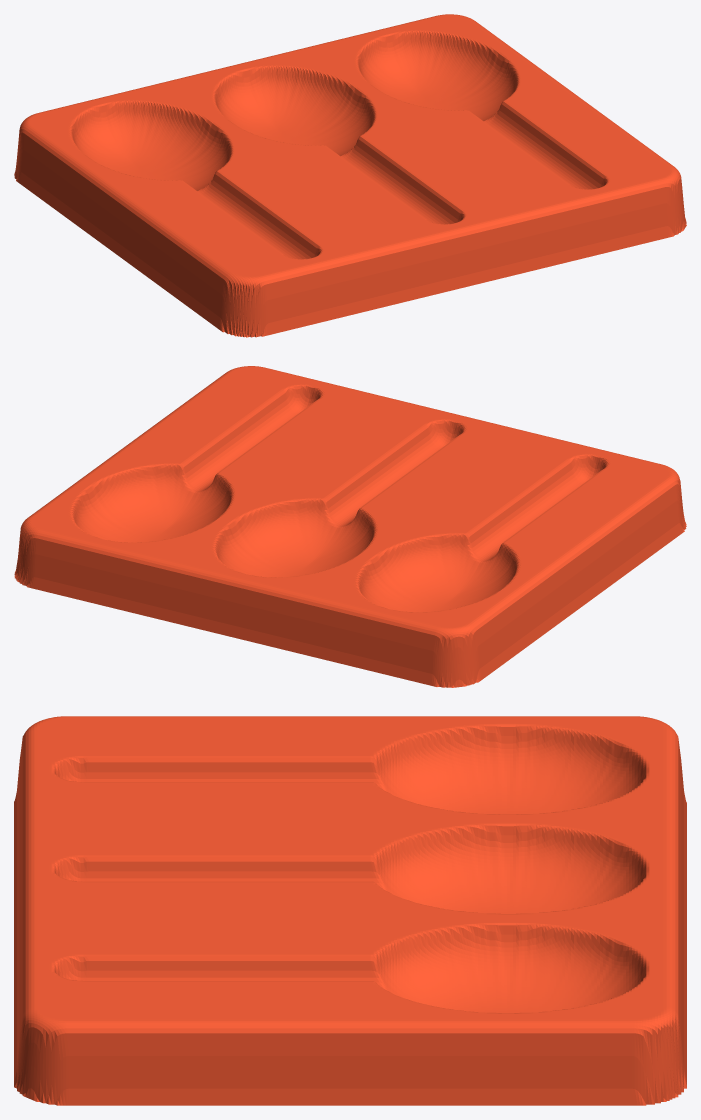
The model's file is mold.glb.
The picture shows the model from 3 angles, top to bottom: view 1: azimuth 30°, elevation 25°; view 2: azimuth 150°, elevation 25°; view 3: azimuth 270°, elevation 25°; orthographic projection. The views are drawn at different scales.
Visible parts, largest first — view 1: geometry_0; view 2: geometry_0; view 3: geometry_0.
Boxes of the visible parts, x1=… form: geometry_0: x1=14, y1=14, x2=686, y2=337; geometry_0: x1=14, y1=366, x2=686, y2=687; geometry_0: x1=14, y1=716, x2=686, y2=1105.
Size of the model in its own units: 0.131 by 0.0145 by 0.116.
